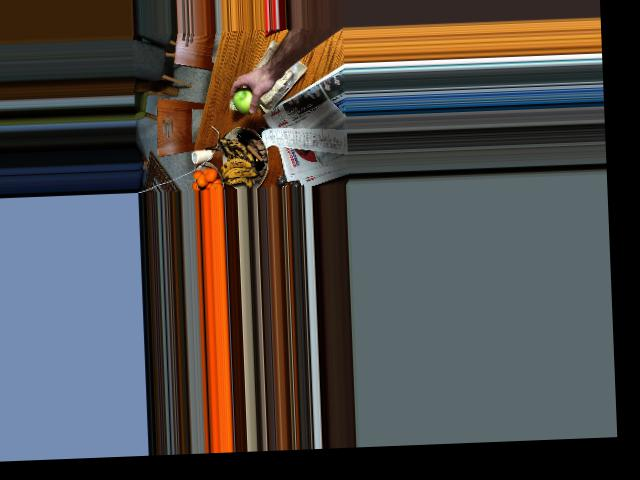apple: (231, 86, 261, 114)
